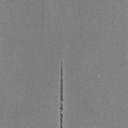slag inclusion: (60, 68, 63, 102), (60, 114, 63, 128), (60, 104, 63, 111)
